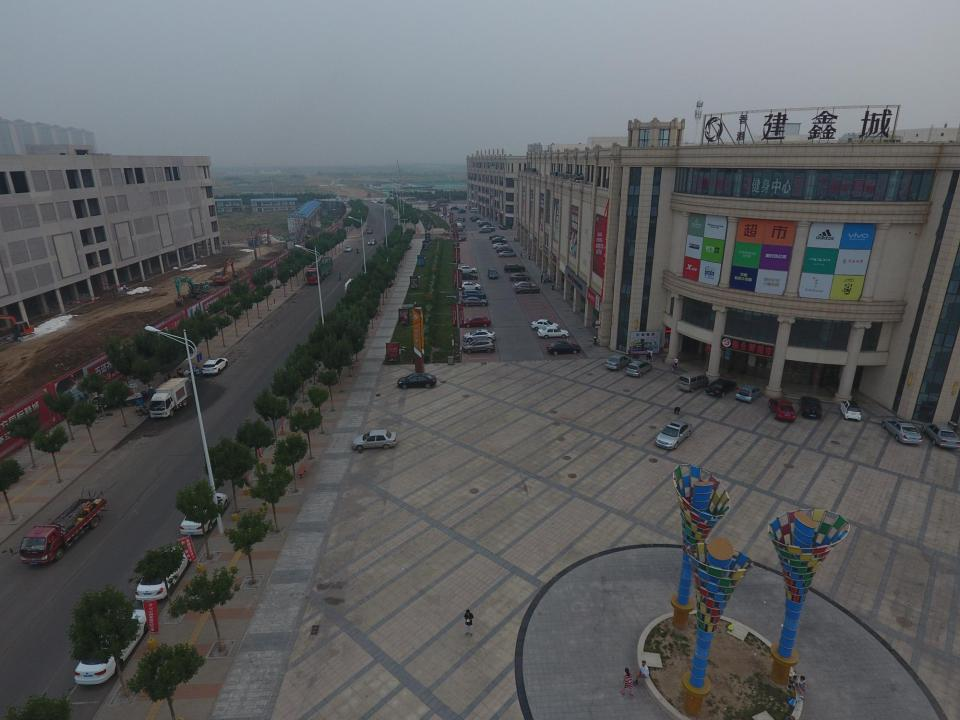car: (74, 608, 152, 686), (135, 546, 191, 601), (180, 493, 228, 536), (654, 419, 692, 450), (881, 419, 922, 445), (350, 429, 398, 451), (921, 423, 960, 448), (397, 372, 437, 389), (768, 397, 796, 421), (705, 378, 737, 397), (462, 338, 496, 355), (798, 396, 823, 419), (546, 340, 581, 356), (734, 384, 762, 404), (626, 358, 652, 378), (202, 357, 228, 376), (839, 400, 862, 421), (462, 329, 496, 342), (605, 354, 631, 371), (537, 326, 570, 339), (461, 315, 491, 328), (530, 319, 560, 330), (460, 296, 489, 307), (461, 288, 486, 300), (514, 284, 540, 294), (458, 281, 482, 291), (513, 281, 537, 290), (509, 273, 531, 282), (503, 264, 526, 272), (457, 272, 478, 280), (458, 265, 478, 273), (487, 266, 498, 280), (497, 250, 516, 258), (491, 242, 509, 249), (495, 246, 512, 253), (488, 234, 505, 240), (491, 236, 507, 242), (477, 221, 491, 227), (482, 224, 496, 230), (492, 238, 506, 244), (456, 235, 466, 242), (368, 238, 377, 245), (456, 208, 466, 214), (475, 219, 487, 224), (344, 245, 352, 252), (468, 215, 478, 220), (429, 208, 441, 212), (366, 228, 374, 234), (499, 225, 506, 231), (417, 199, 425, 204), (471, 218, 481, 222), (392, 214, 398, 220)
truck: (9, 487, 108, 566), (148, 378, 192, 419), (88, 382, 143, 413), (305, 257, 333, 286), (248, 239, 263, 247)
van: (677, 370, 709, 393), (478, 226, 492, 233), (454, 217, 465, 222), (450, 203, 459, 209), (469, 207, 478, 213), (427, 206, 437, 210), (449, 206, 459, 210), (386, 208, 392, 212)
